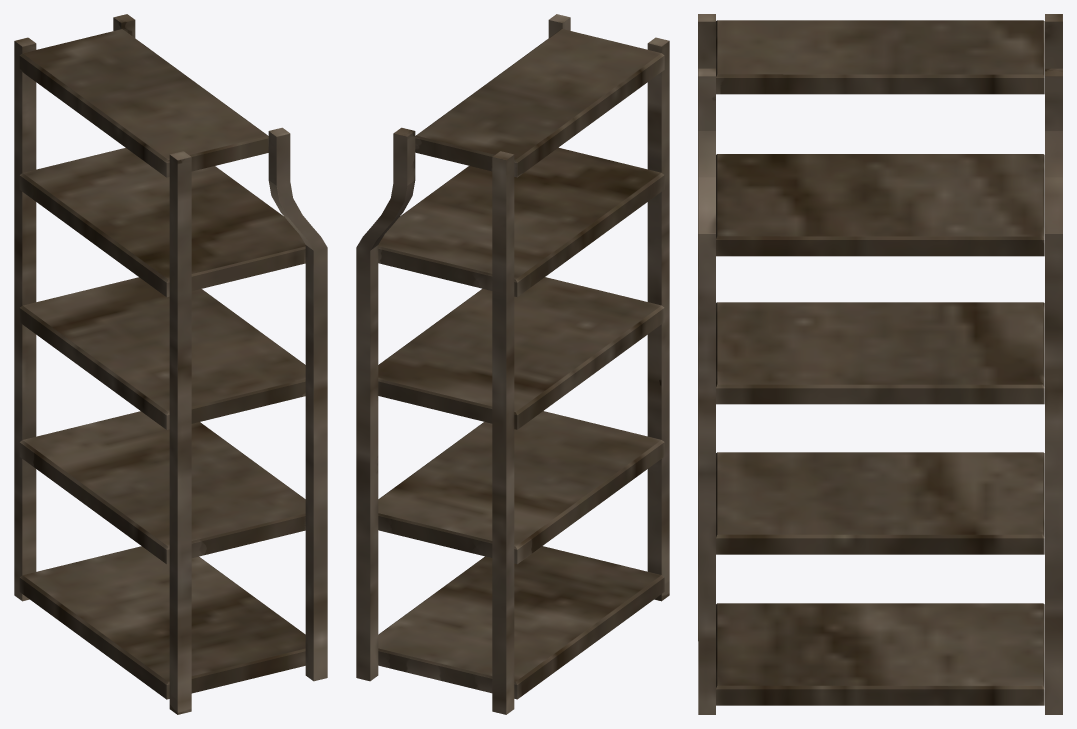
Rendered from obj_Object_Estante.fbx.
3 views of the same model, side by side, from view 1: azimuth 30°, elevation 25°; view 2: azimuth 150°, elevation 25°; view 3: azimuth 270°, elevation 25° (orthographic). The views are drawn at different scales.
Visible parts, largest first — view 1: pCube93; view 2: pCube93; view 3: pCube93.
Boxes of the visible parts, x1,y1,x2,y2 form: pCube93: [14, 14, 327, 714]; pCube93: [356, 14, 669, 714]; pCube93: [698, 14, 1062, 714].
Bounding box in the file's own units: 0.45 × 1.53 × 0.8157.
1 material, 1 textured.
